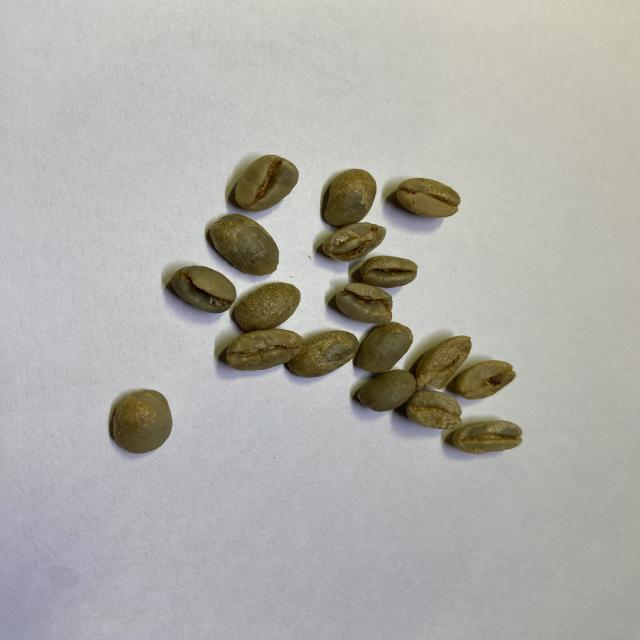bad: (412, 335, 472, 390), (322, 222, 387, 261), (334, 283, 394, 325), (458, 360, 518, 401)
good: (110, 389, 174, 456), (209, 214, 278, 276), (235, 154, 298, 212), (285, 330, 358, 378), (233, 282, 300, 331), (168, 266, 236, 314), (324, 168, 376, 226), (225, 332, 303, 369), (394, 176, 460, 219), (358, 320, 410, 372), (354, 370, 416, 411), (451, 420, 522, 453), (408, 390, 462, 428), (360, 255, 419, 288)
